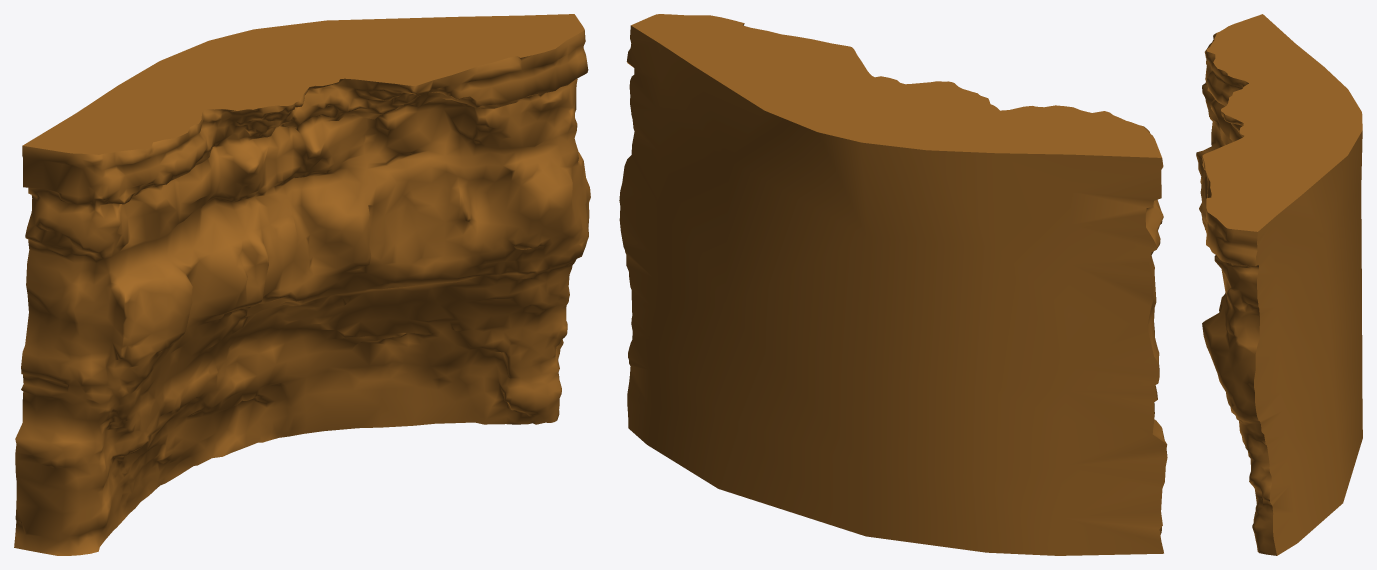
Rendered from MSH_Rocks_Cliff_28.FBX.
3 renders of one model, left to right at view 1: azimuth 30°, elevation 25°; view 2: azimuth 150°, elevation 25°; view 3: azimuth 270°, elevation 25°, orthographic. The views are drawn at different scales.
Parts seen in each view (by area): view 1: MESH_LOD0, CAP_LOD0; view 2: CAP_LOD0, MESH_LOD0; view 3: CAP_LOD0, MESH_LOD0.
Boxes of the visible parts, box(x1,y1,x2,y2) form: MESH_LOD0: box(14, 30, 590, 555); CAP_LOD0: box(23, 14, 584, 154); CAP_LOD0: box(619, 14, 1167, 555); MESH_LOD0: box(627, 23, 1167, 550); CAP_LOD0: box(1202, 14, 1362, 555); MESH_LOD0: box(1196, 33, 1276, 555).
Size of what is drawn, in the model's own units: 977 by 661 by 305.
